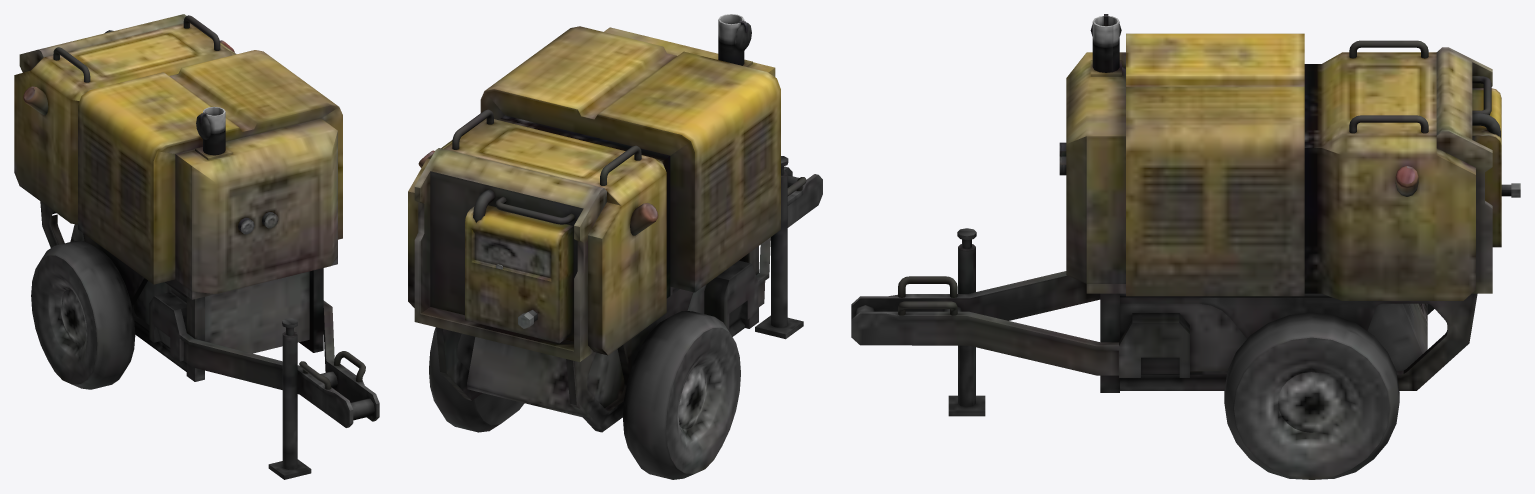
File: diesel_generator.glb
3 views of the same model, side by side, from view 1: azimuth 30°, elevation 25°; view 2: azimuth 150°, elevation 25°; view 3: azimuth 270°, elevation 25° (orthographic). The views are drawn at different scales.
Visible parts, largest first — view 1: 0_diesel_generator; view 2: 0_diesel_generator; view 3: 0_diesel_generator.
Part boxes in pixels (x1=…): 0_diesel_generator: x1=14, y1=14, x2=379, y2=479; 0_diesel_generator: x1=408, y1=14, x2=822, y2=479; 0_diesel_generator: x1=851, y1=14, x2=1520, y2=479.
Bounding box in the file's own units: 1.41 × 2.04 × 3.27.
1 material, 1 textured.
